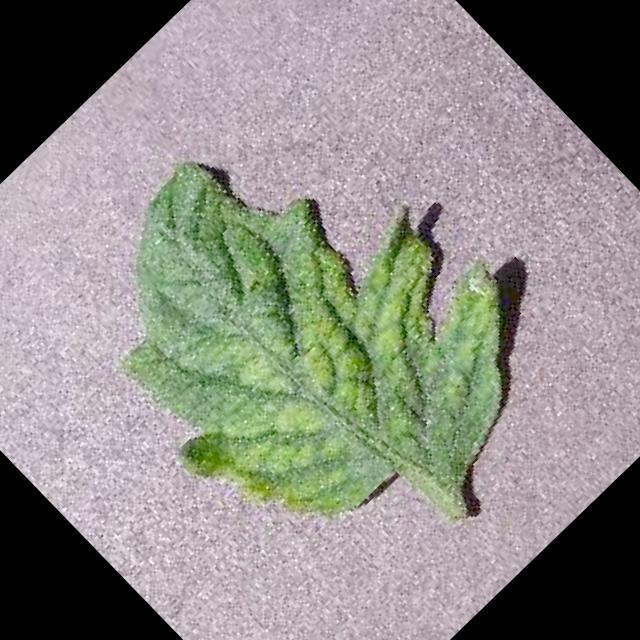Tomato mosaic virus leaf: (28, 56, 580, 612)
